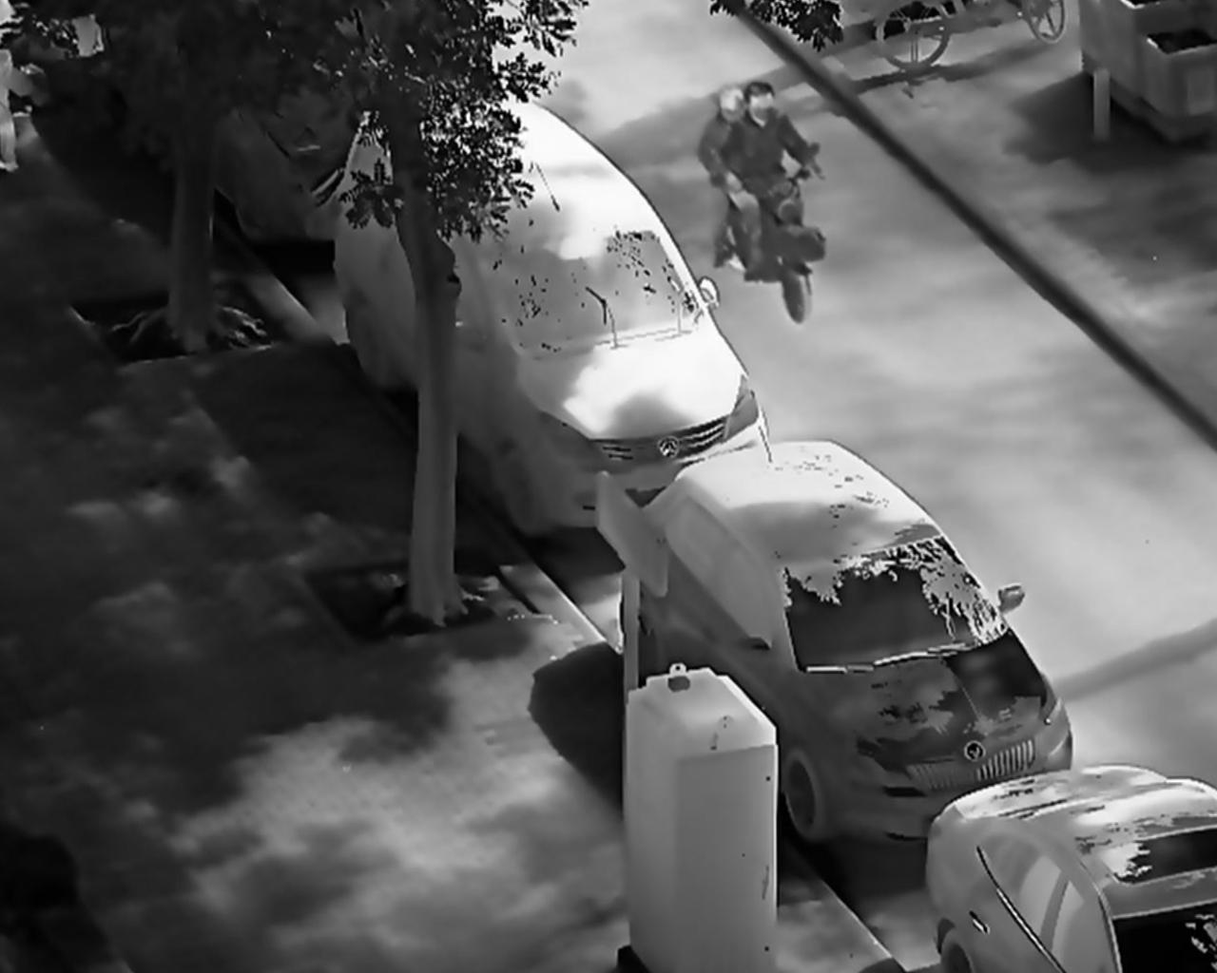person: (723, 80, 820, 273)
